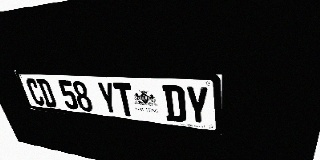5: (57, 80, 80, 110)
8: (71, 81, 94, 112)
C: (25, 78, 46, 106)
D: (162, 85, 187, 123), (36, 79, 58, 108)
T: (113, 82, 136, 117)
Y: (185, 86, 210, 126), (96, 82, 119, 115)
